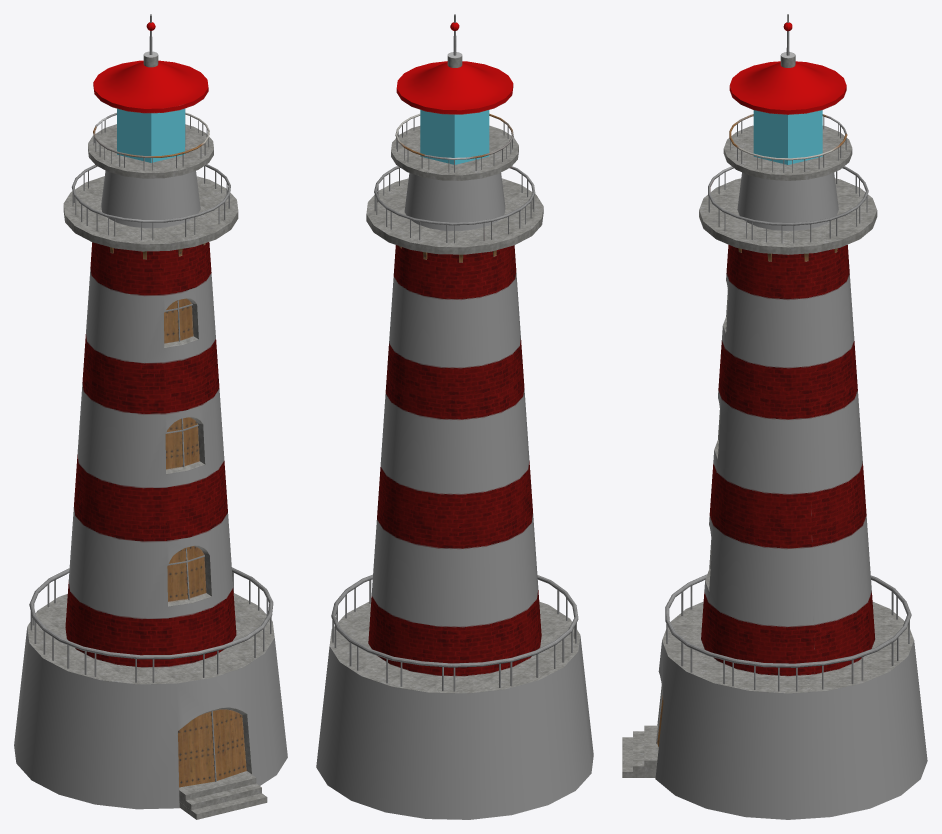
File: Lighthouse.fbx
3 views of the same model, side by side, from view 1: azimuth 30°, elevation 25°; view 2: azimuth 150°, elevation 25°; view 3: azimuth 270°, elevation 25° (orthographic).
Visible parts, largest first — view 1: tower02, tower01, roof01, roof03, tower03, roof02, light_glass, railing01, stapes, railing02, railing03; view 2: tower02, tower01, roof01, roof03, tower03, roof02, light_glass, railing01, railing02, railing03; view 3: tower02, tower01, roof01, roof03, tower03, roof02, light_glass, railing01, stapes, railing02, railing03.
Part boxes in pixels (bbox=[...]): tower02: bbox=[65, 242, 236, 667]; tower01: bbox=[14, 593, 287, 809]; roof01: bbox=[63, 176, 238, 251]; roof03: bbox=[93, 60, 208, 113]; tower03: bbox=[101, 170, 200, 228]; roof02: bbox=[88, 124, 213, 178]; light_glass: bbox=[117, 108, 185, 162]; railing01: bbox=[29, 567, 273, 682]; stapes: bbox=[179, 771, 267, 819]; railing02: bbox=[71, 164, 230, 240]; railing03: bbox=[93, 112, 209, 170]; tower02: bbox=[368, 245, 541, 676]; tower01: bbox=[316, 601, 593, 819]; roof01: bbox=[366, 178, 543, 254]; roof03: bbox=[396, 61, 513, 114]; tower03: bbox=[404, 172, 505, 231]; roof02: bbox=[391, 125, 518, 180]; light_glass: bbox=[420, 110, 489, 164]; railing01: bbox=[331, 574, 578, 691]; railing02: bbox=[374, 166, 535, 243]; railing03: bbox=[395, 113, 513, 172]; tower02: bbox=[701, 244, 875, 676]; tower01: bbox=[655, 601, 927, 819]; roof01: bbox=[699, 178, 877, 254]; roof03: bbox=[729, 61, 846, 114]; tower03: bbox=[737, 172, 838, 231]; roof02: bbox=[723, 125, 852, 180]; light_glass: bbox=[753, 110, 822, 164]; railing01: bbox=[665, 574, 911, 691]; stapes: bbox=[622, 725, 658, 777]; railing02: bbox=[708, 166, 868, 243]; railing03: bbox=[729, 114, 847, 172].
Bounding box in the file's own units: 2.77 × 8.19 × 3.03.
